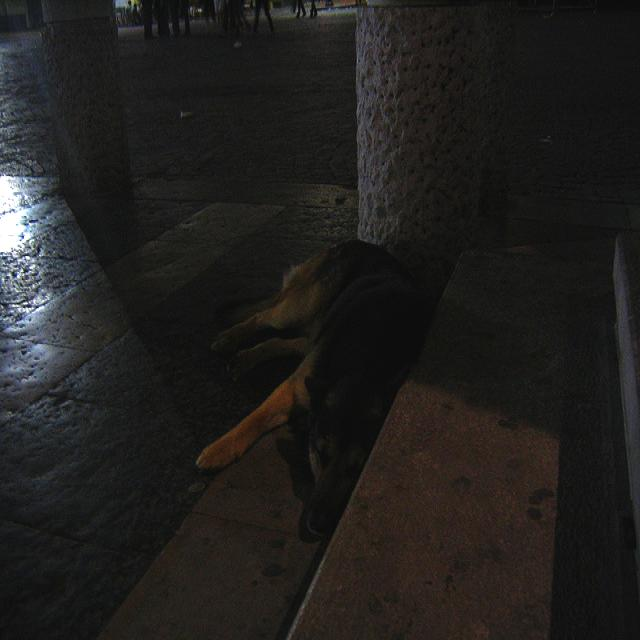Dog: (196, 225, 414, 523)
